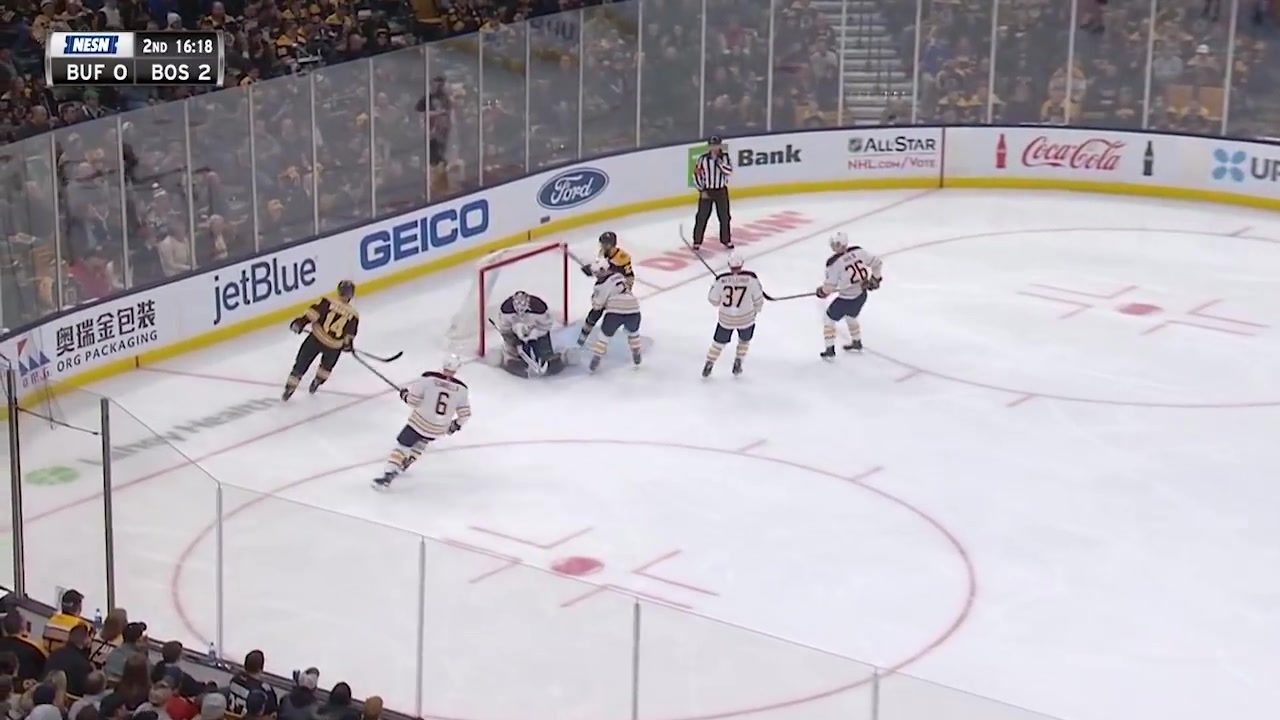Geico: (354, 201, 502, 268)
